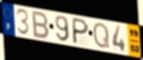3: (16, 9, 30, 37)
4: (111, 24, 128, 54)
9: (54, 15, 71, 43)
B: (32, 10, 51, 40)
P: (72, 17, 90, 46)
Q: (92, 21, 111, 50)
